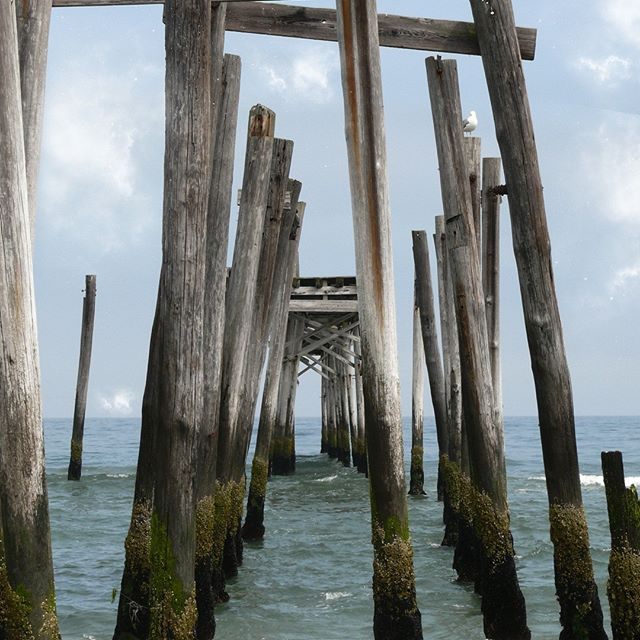collumn: (469, 1, 611, 640), (123, 1, 225, 640), (338, 1, 424, 640), (1, 1, 71, 631), (215, 108, 286, 608), (60, 271, 102, 487)
sea: (1, 428, 633, 640)
sky: (1, 1, 632, 404)
